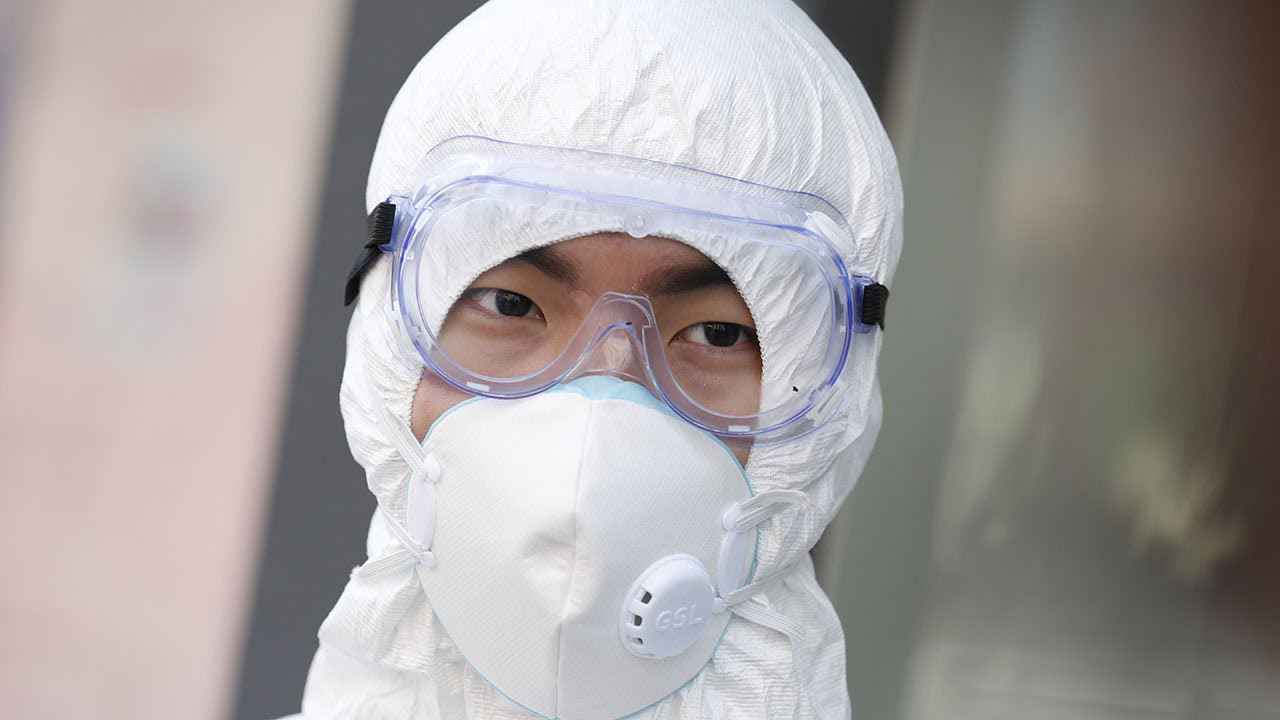Goggles: (390, 132, 868, 436)
with_mask: (412, 305, 753, 720)
